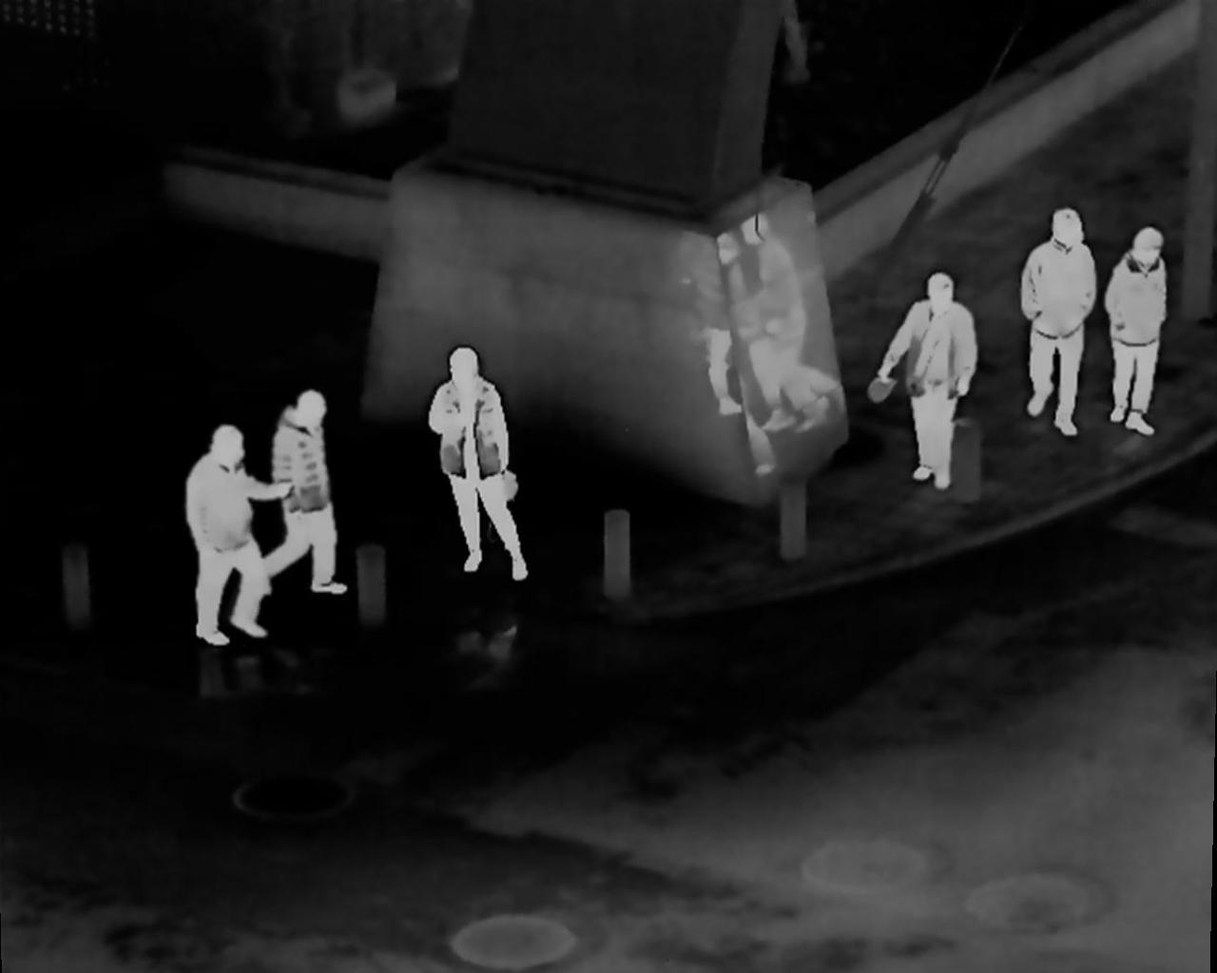person: (184, 426, 288, 640), (428, 346, 508, 582), (260, 389, 351, 595), (1014, 211, 1092, 438), (888, 274, 975, 476), (1101, 225, 1166, 433)
